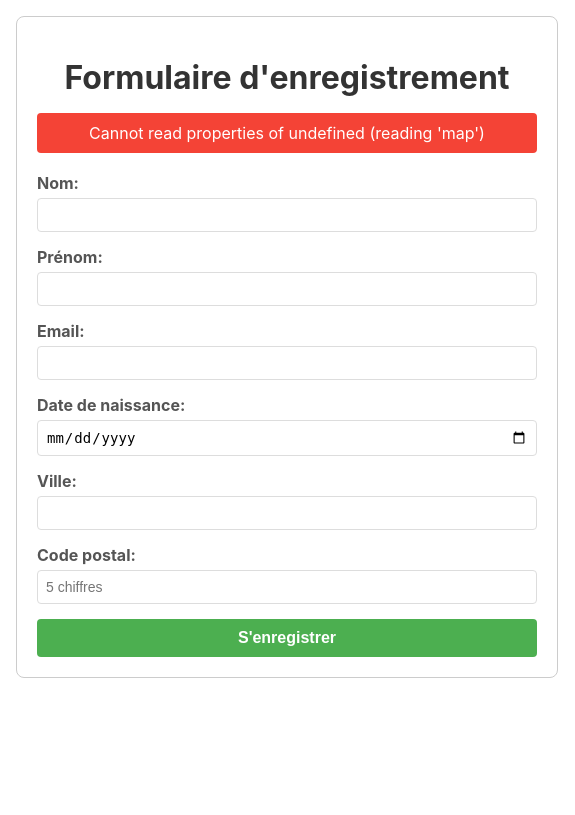
it: RegisterPage Component › Form Input Handling › should clear error message when field is changed
Click the button "S'enregistrer" at (287, 638), box [37,619,537,657]
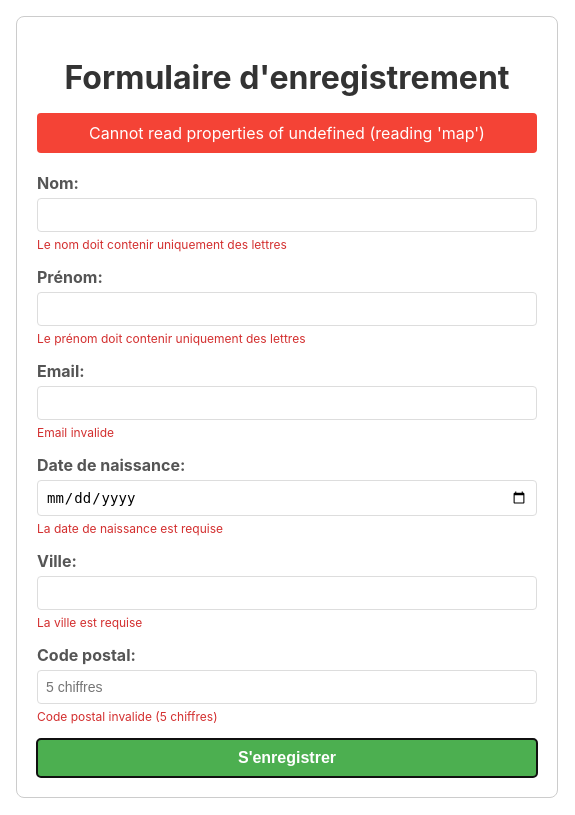
Check: the text "Le nom doit contenir uniquement des lettres" is shown, box [37,237,287,252]
Type "Dupont" into the field with id "nom" at (287, 215), box [37,198,537,232]
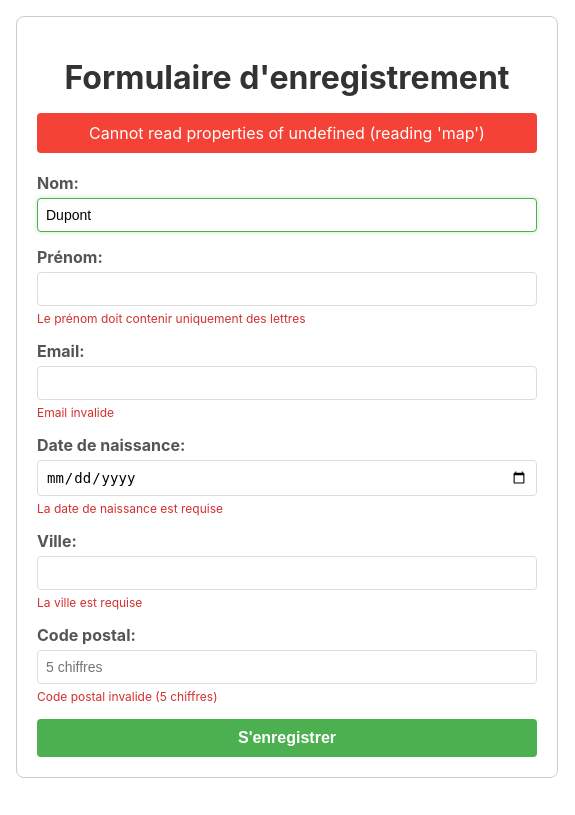
Check: the text "Le nom doit contenir uniquement des lettres" is gone
